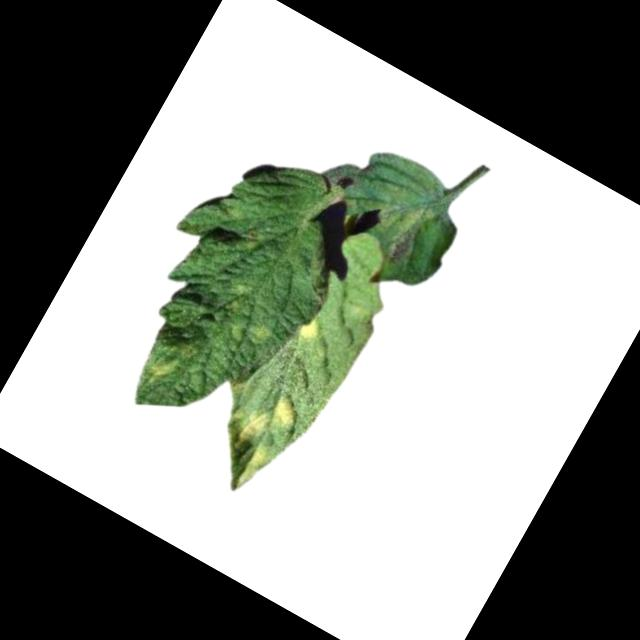Leaf_Mold: (210, 380, 307, 502), (366, 189, 438, 269), (144, 347, 180, 382), (292, 311, 323, 344), (245, 318, 271, 342)
